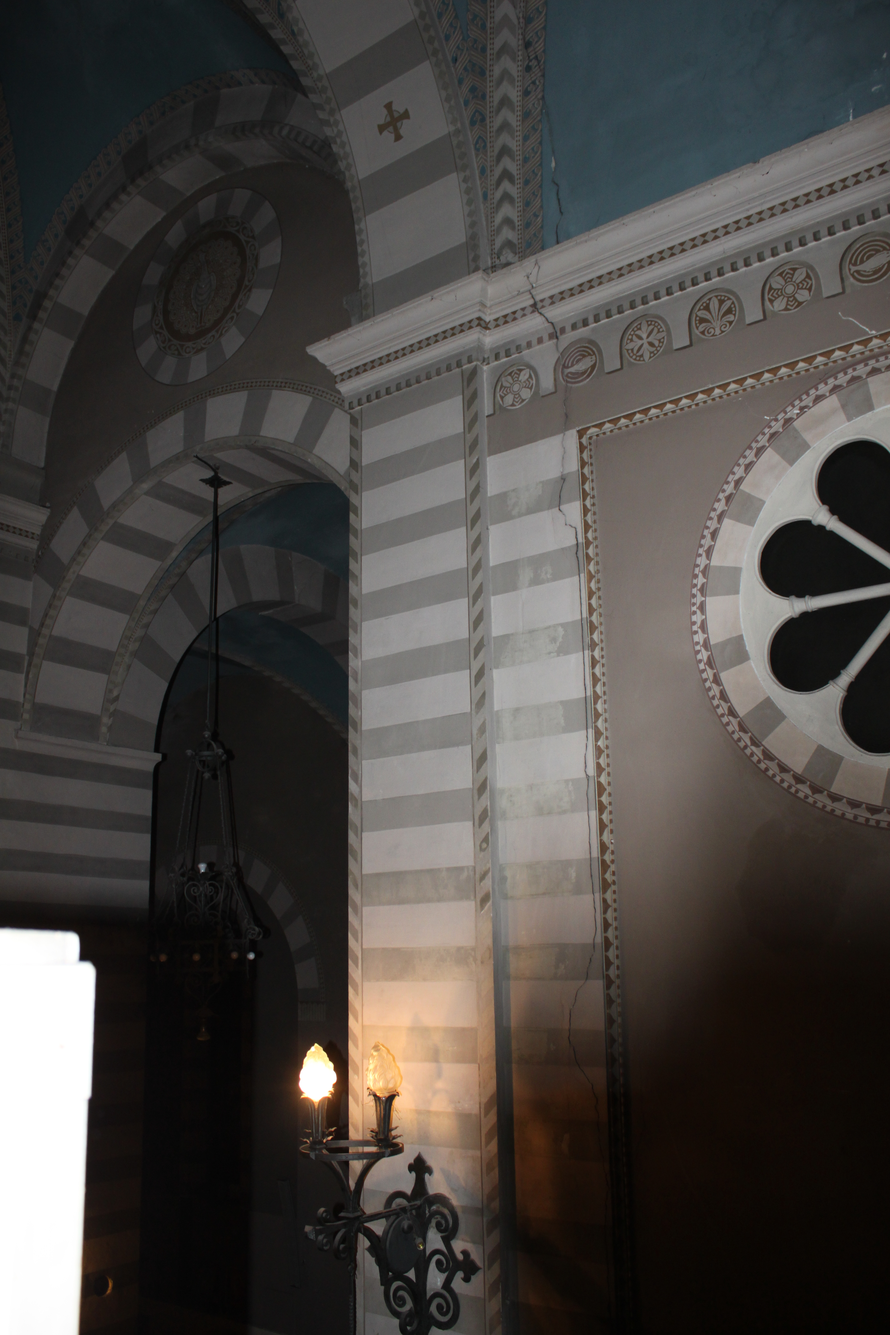Crack: (517, 228, 615, 673), (489, 5, 600, 273)
